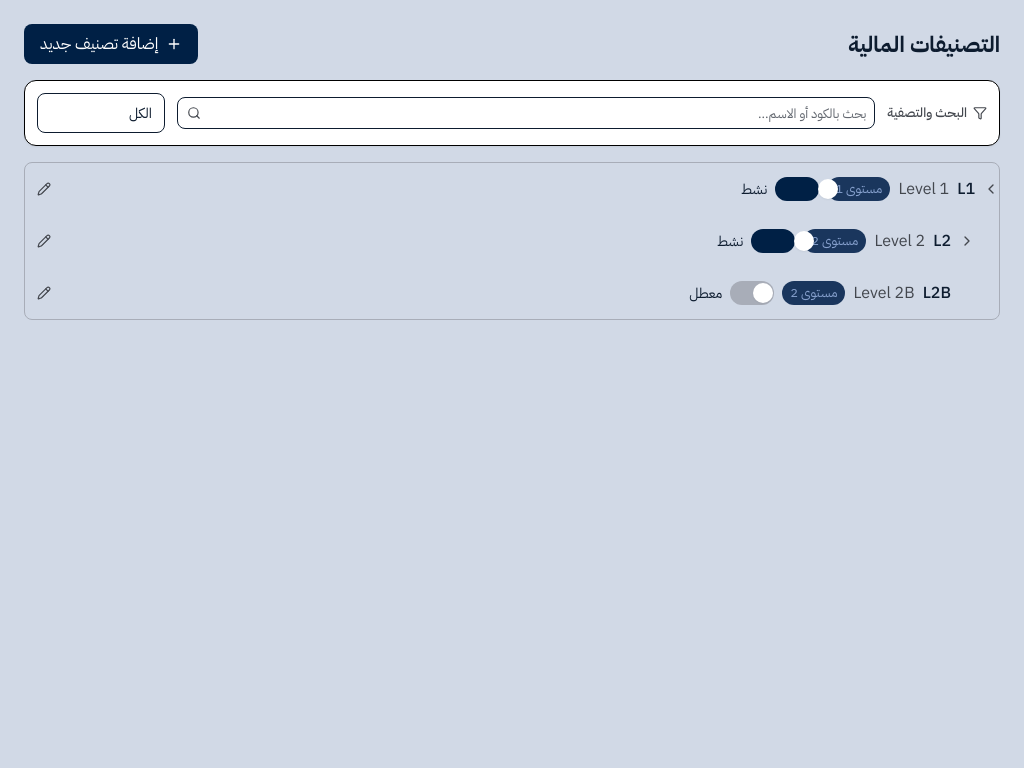
Test: T038: Edit dialog pre-fill, cycle prevention, validation › edit dialog pre-fills fields
Click the button without text in the row of "Level 1" at (44, 189), box x1=33 y1=178 x2=55 y2=200
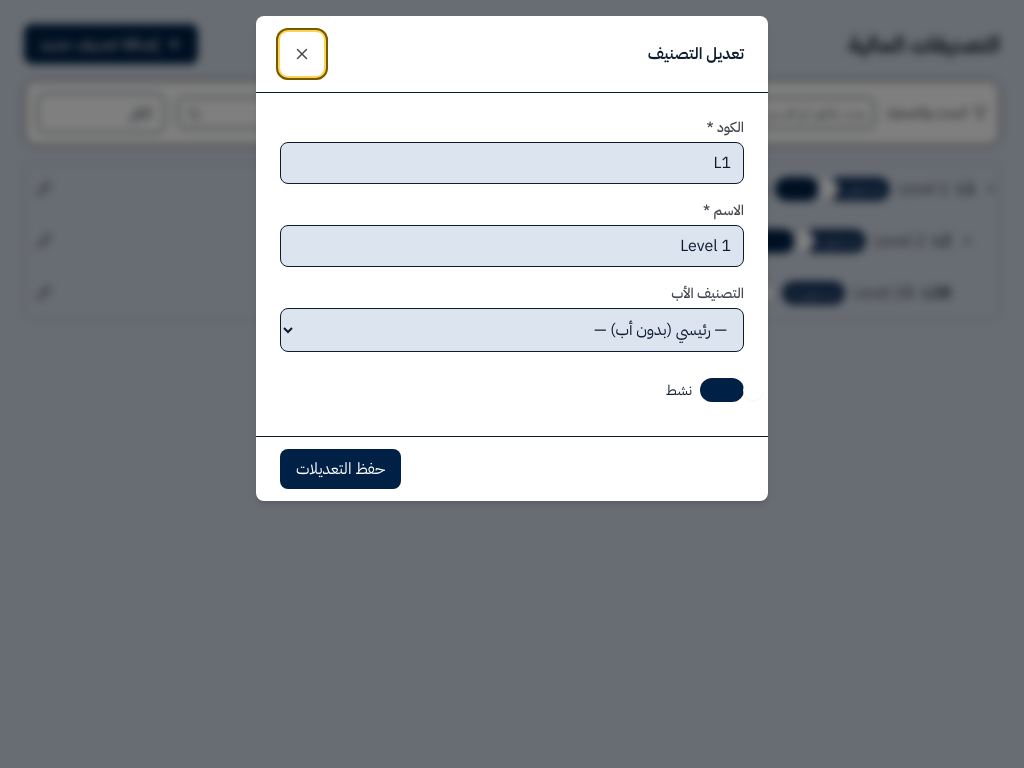
Expected: the field showing "L1" is shown, x1=280 y1=142 x2=744 y2=184
Expected: the field showing "Level 1" is shown, x1=280 y1=225 x2=744 y2=267
